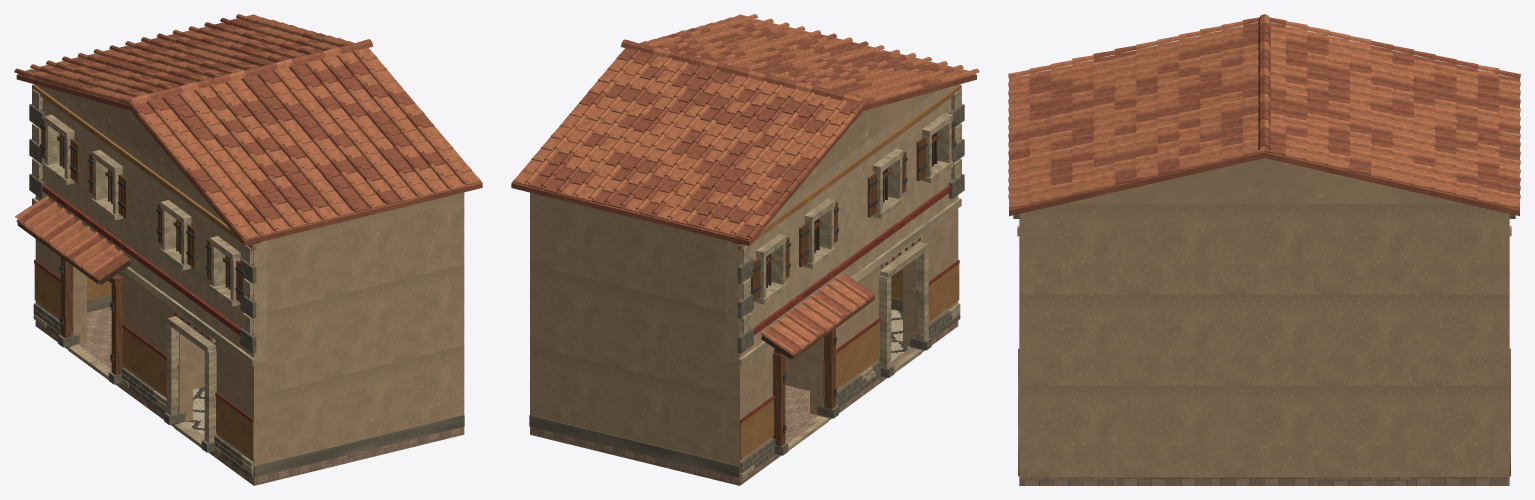
File: roman_narrow_domus.glb
The picture shows the model from 3 angles, left to right: view 1: azimuth 30°, elevation 25°; view 2: azimuth 150°, elevation 25°; view 3: azimuth 270°, elevation 25°; orthographic projection. The views are drawn at different scales.
Parts seen in each view (by area): view 1: Domus_Roof, Domus_Enclosure, Domus_UpperFloor, Domus_StreetFront; view 2: Domus_Roof, Domus_Enclosure, Domus_UpperFloor, Domus_StreetFront; view 3: Domus_Enclosure, Domus_Roof, Domus_UpperFloor.
Part boxes in pixels (<box>): Domus_Roof: <box>14,14,482,245</box>; Domus_Enclosure: <box>35,172,464,485</box>; Domus_UpperFloor: <box>29,84,267,366</box>; Domus_StreetFront: <box>15,195,267,478</box>; Domus_Roof: <box>511,14,979,245</box>; Domus_Enclosure: <box>529,192,958,485</box>; Domus_UpperFloor: <box>726,84,964,366</box>; Domus_StreetFront: <box>726,209,960,478</box>; Domus_Enclosure: <box>1018,203,1510,485</box>; Domus_Roof: <box>1008,14,1520,216</box>; Domus_UpperFloor: <box>1013,158,1515,236</box>.
Bounding box in the file's own units: 6.25 × 7.09 × 9.41.
1 material, 1 textured.
